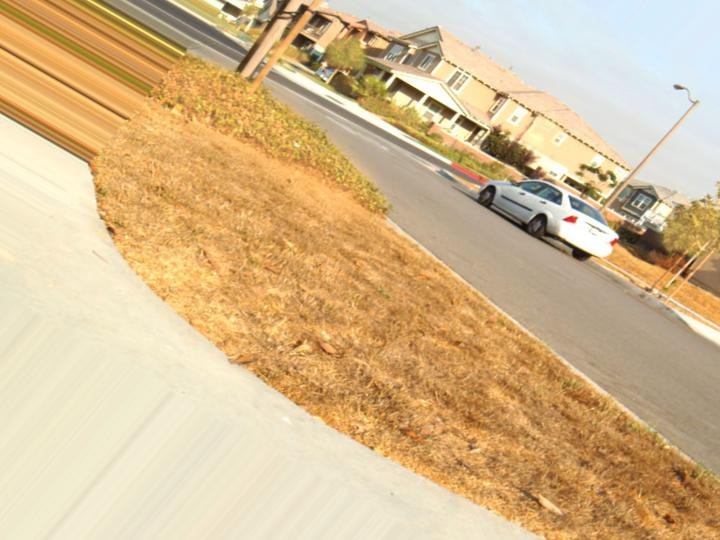patch: (234, 147, 305, 360), (123, 135, 225, 270), (314, 195, 370, 417), (381, 258, 437, 464), (450, 321, 507, 503), (514, 358, 561, 528), (577, 416, 624, 534)
